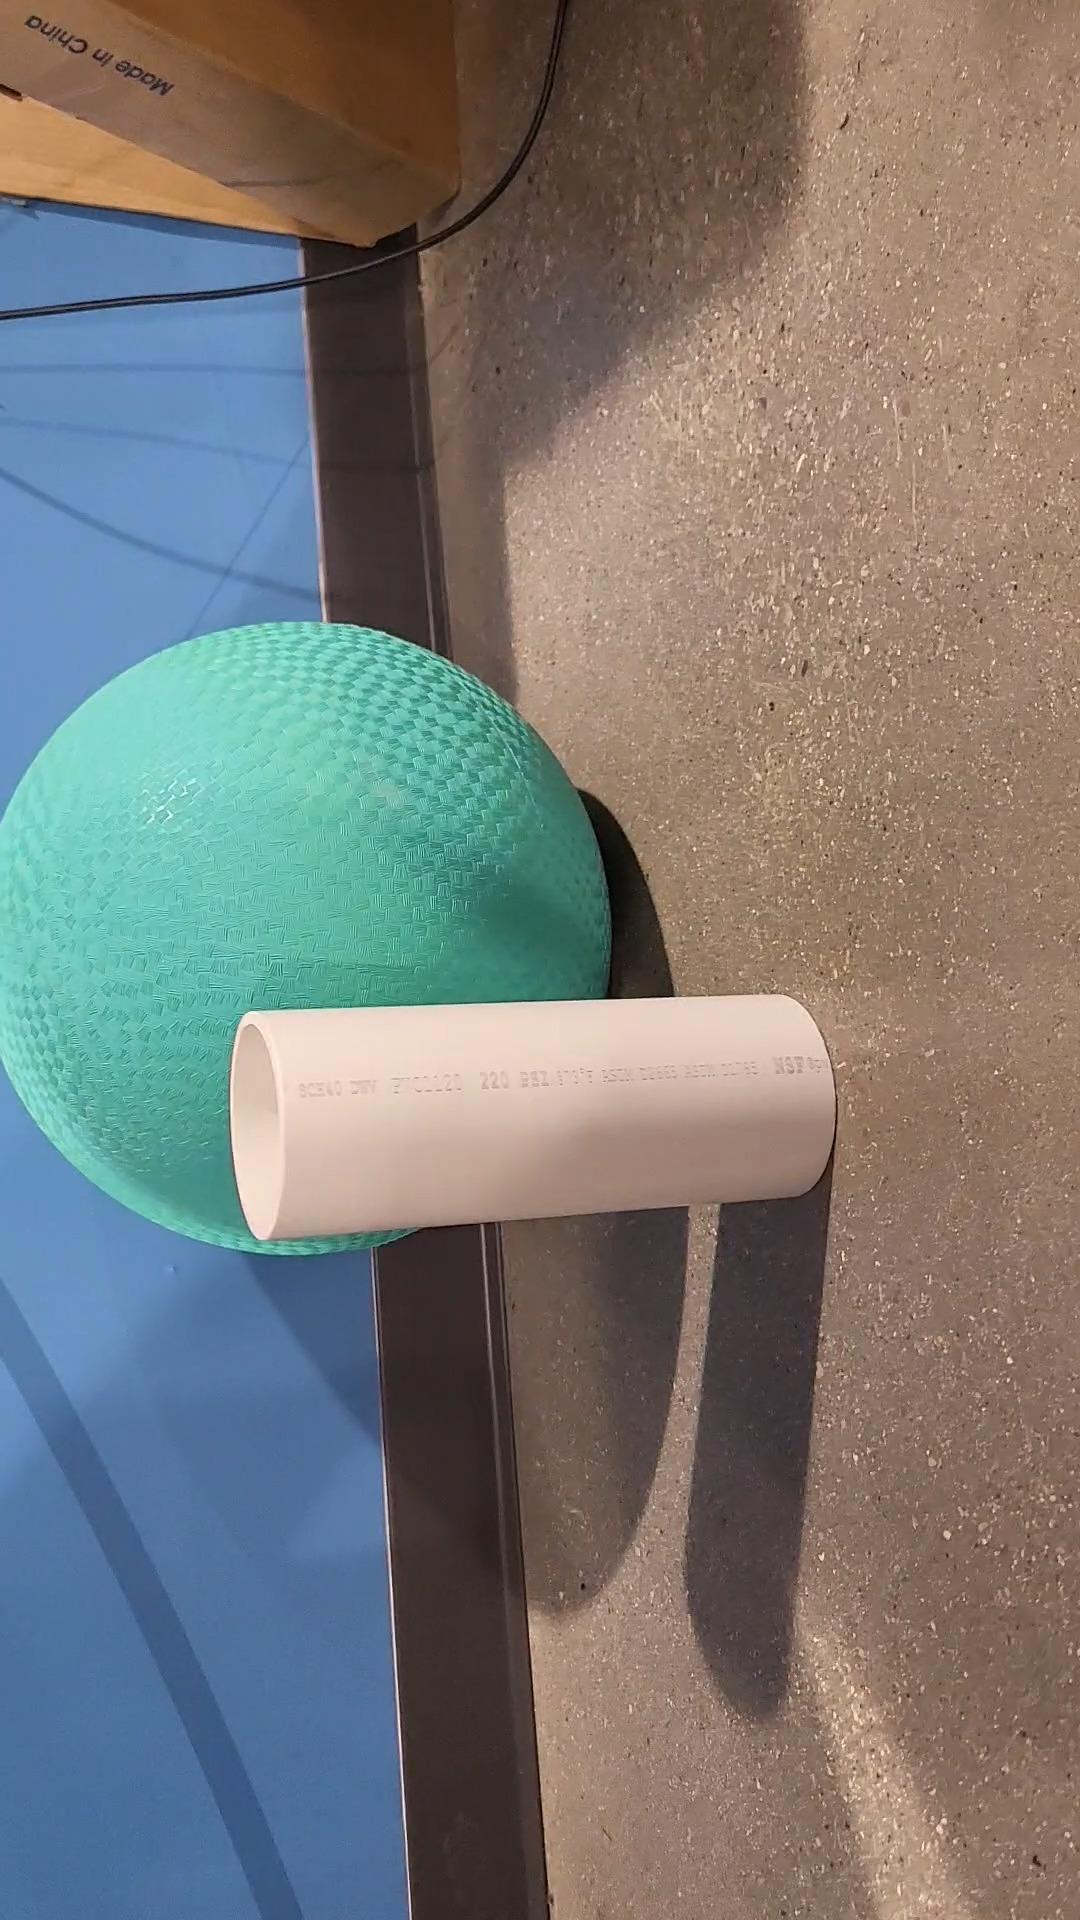algae: (0, 620, 615, 1261)
coral: (229, 997, 840, 1236)
